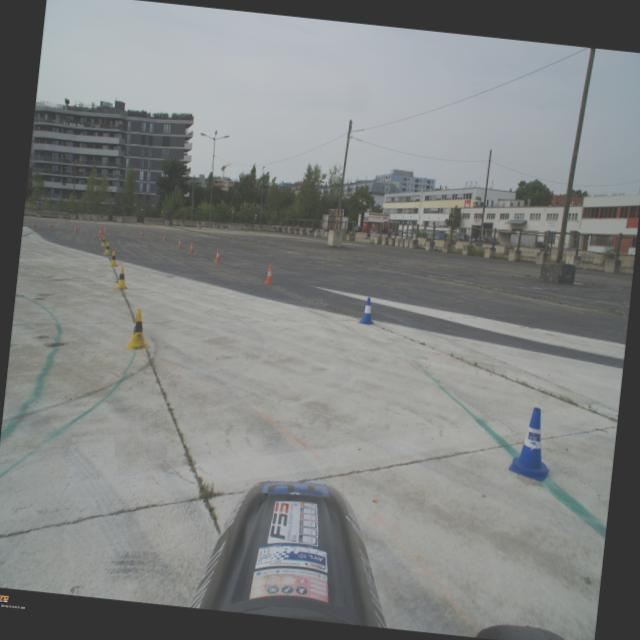blue_cone: (507, 406, 555, 482), (358, 296, 378, 325)
orange_cone: (264, 264, 275, 284), (213, 248, 222, 263), (188, 241, 196, 253), (98, 230, 105, 240), (176, 238, 182, 248), (162, 233, 168, 242), (140, 229, 144, 237), (74, 224, 78, 232), (103, 225, 107, 232), (98, 228, 102, 235), (48, 220, 52, 227), (32, 220, 36, 227)
yellow_cone: (125, 308, 151, 352), (114, 266, 130, 290), (108, 250, 120, 266), (102, 242, 112, 255), (100, 236, 106, 247)
